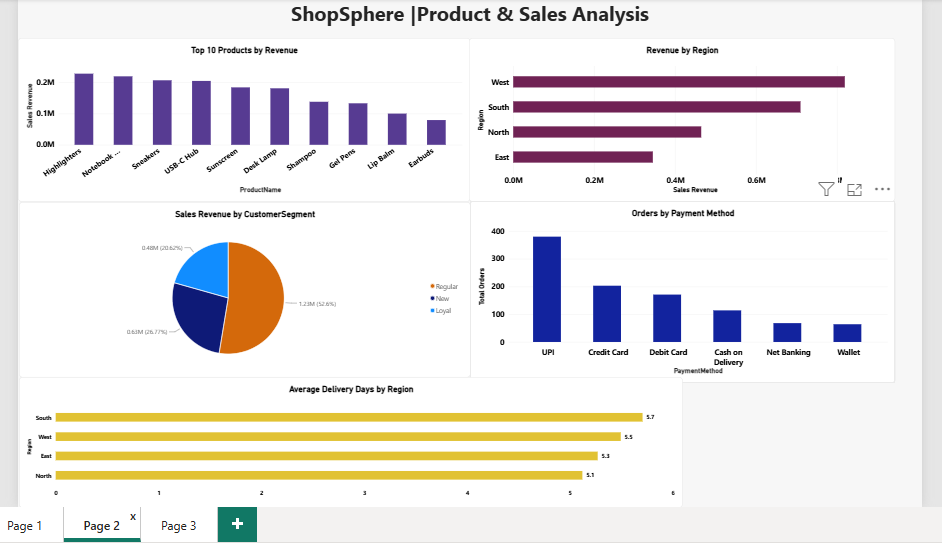

The dashboard page shown, as its layout file describes it:
{"tool":"powerbi","page":{"name":"Page 2","canvas":[1920,1080],"ordinal":1},"visuals":[{"type":"textbox","box":[1.9,0,1917.3,98.1],"z":0},{"type":"clusteredColumnChart","title":"Top 10 Products by Revenue","fields":{"Category":["Products.ProductName"],"Y":["Orders.Sales Revenue"]},"box":[0,82.7,961.5,348.1],"z":1000},{"type":"clusteredBarChart","title":"Revenue by Region","fields":{"Category":["Customers.Region"],"Y":["Orders.Sales Revenue"]},"box":[959.6,82.7,905.8,348.1],"z":2000},{"type":"pieChart","title":"Sales Revenue by CustomerSegment","fields":{"Category":["Customers.CustomerSegment"],"Y":["Orders.Sales Revenue"]},"box":[1.9,430.8,959.6,373.1],"z":3000},{"type":"clusteredColumnChart","title":"Orders by Payment Method","fields":{"Category":["Orders.PaymentMethod"],"Y":["OrderItems.Total Orders"]},"box":[960.3,430.2,904.8,385.7],"z":4000},{"type":"clusteredBarChart","title":"Average Delivery Days by Region","fields":{"Category":["Customers.Region"],"Y":["Orders.Average Delivery Days"]},"box":[1.6,803.2,1411.1,277.8],"z":5000}]}

Visuals, with their boxes on the page's 1920x1080 design canvas (x1, y1, x2, y2). These are canvas units, not pixel positions in the 942x543 screenshot, which may show the page scaled, cropped or inside an application window:
textbox: 2,0,1919,98
"Top 10 Products by Revenue" clusteredColumnChart: 0,83,962,431
"Revenue by Region" clusteredBarChart: 960,83,1865,431
"Sales Revenue by CustomerSegment" pieChart: 2,431,962,804
"Orders by Payment Method" clusteredColumnChart: 960,430,1865,816
"Average Delivery Days by Region" clusteredBarChart: 2,803,1413,1081
